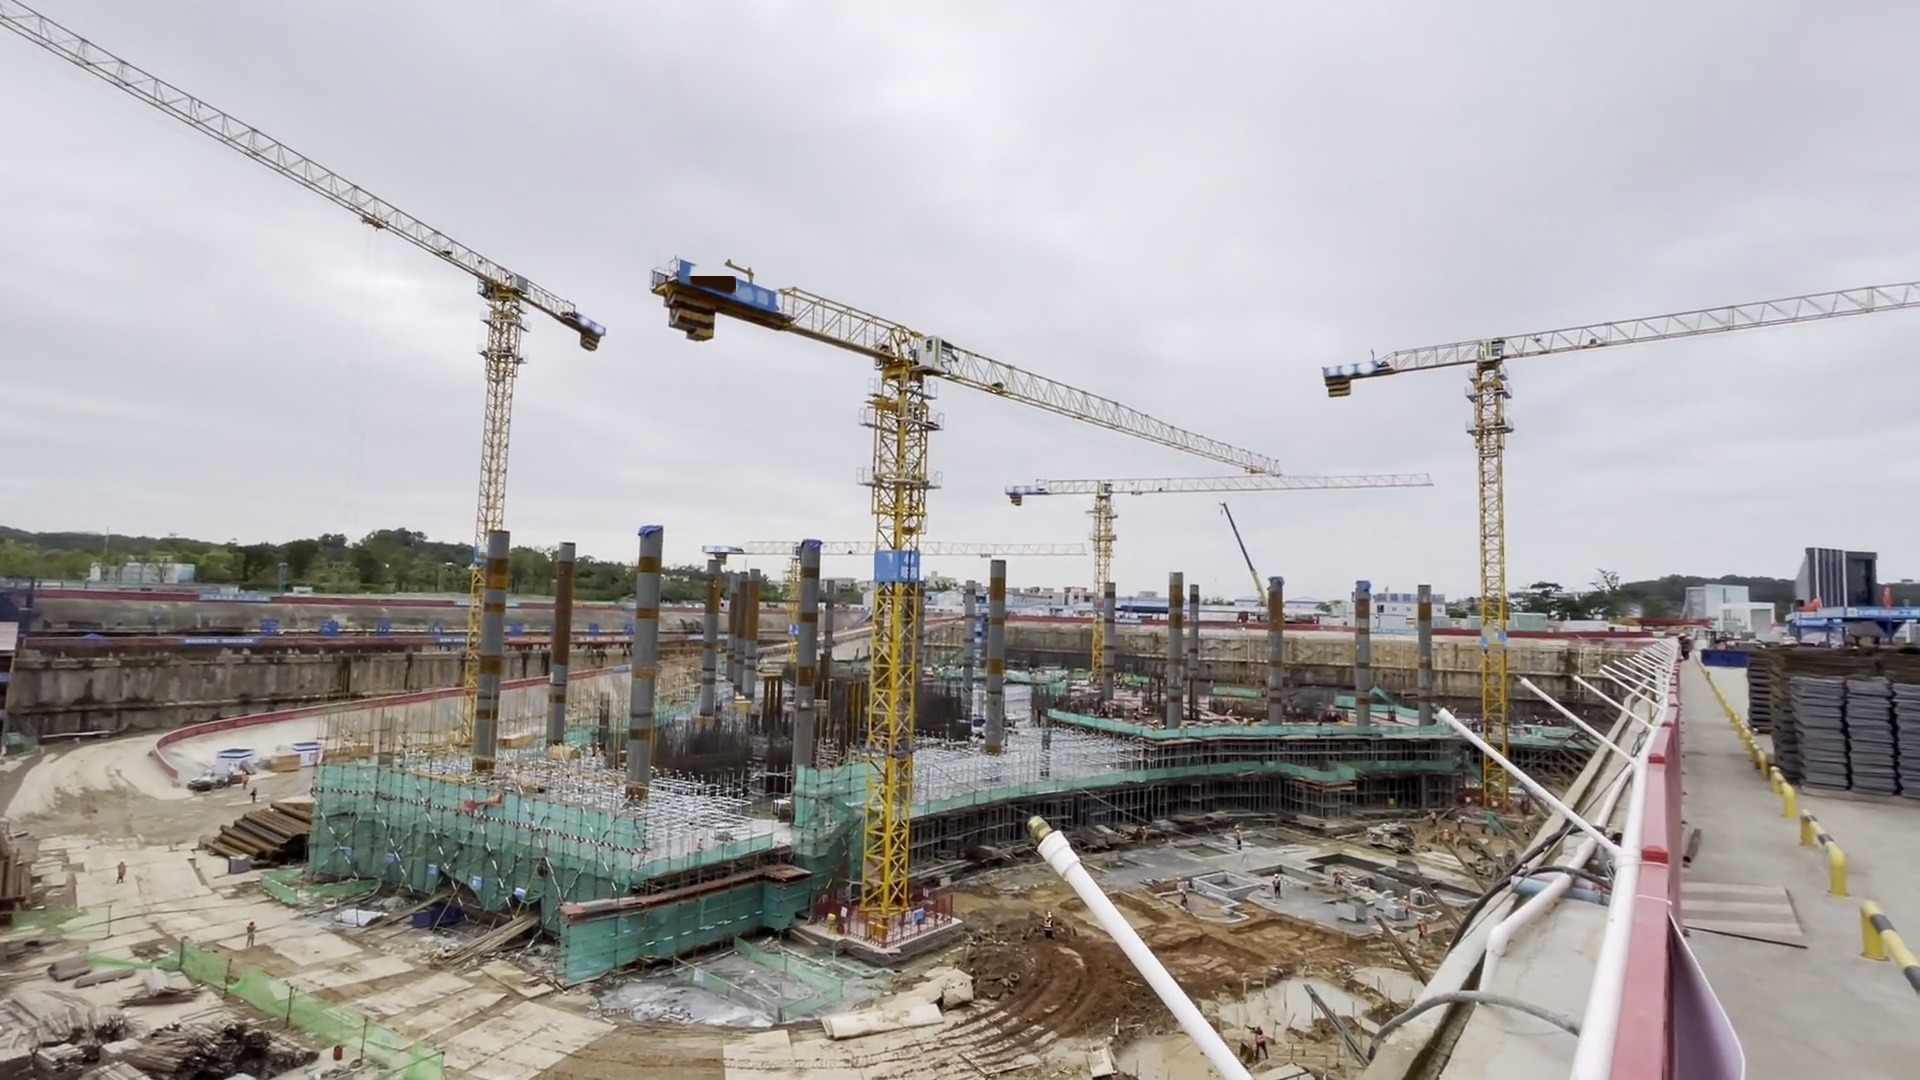ebox: (866, 920, 890, 943)
fence: (158, 701, 362, 736), (107, 592, 451, 608), (140, 633, 419, 646)
helmet: (1416, 915, 1424, 923), (1046, 911, 1053, 918), (1233, 824, 1240, 828), (1178, 889, 1183, 893), (1274, 874, 1278, 879)
hopper: (1700, 637, 1757, 670), (410, 904, 463, 933)
person: (1245, 1017, 1271, 1068), (1039, 909, 1057, 940), (243, 919, 259, 951), (1269, 872, 1285, 898), (1230, 823, 1245, 851), (1415, 914, 1428, 942), (115, 858, 127, 888), (1178, 887, 1193, 909), (239, 770, 250, 790)
slogan: (261, 611, 449, 631), (199, 592, 273, 604), (899, 548, 921, 581), (185, 638, 262, 645)
vest: (1043, 919, 1052, 931), (1273, 879, 1282, 889), (1184, 891, 1189, 901)
wood: (119, 1019, 316, 1068), (268, 751, 305, 773), (340, 740, 379, 760), (498, 732, 536, 747), (543, 742, 572, 759)
